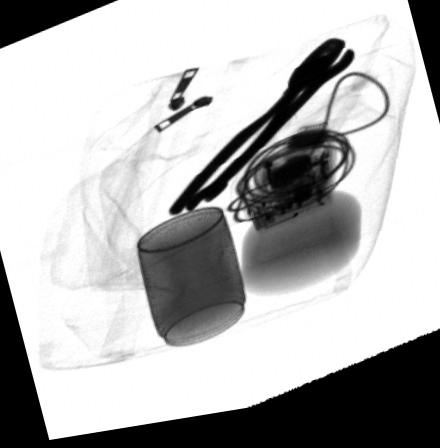Pliers: (168, 46, 347, 221)
Wrench: (188, 60, 354, 219)
